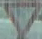Give way: (2, 1, 40, 38)
